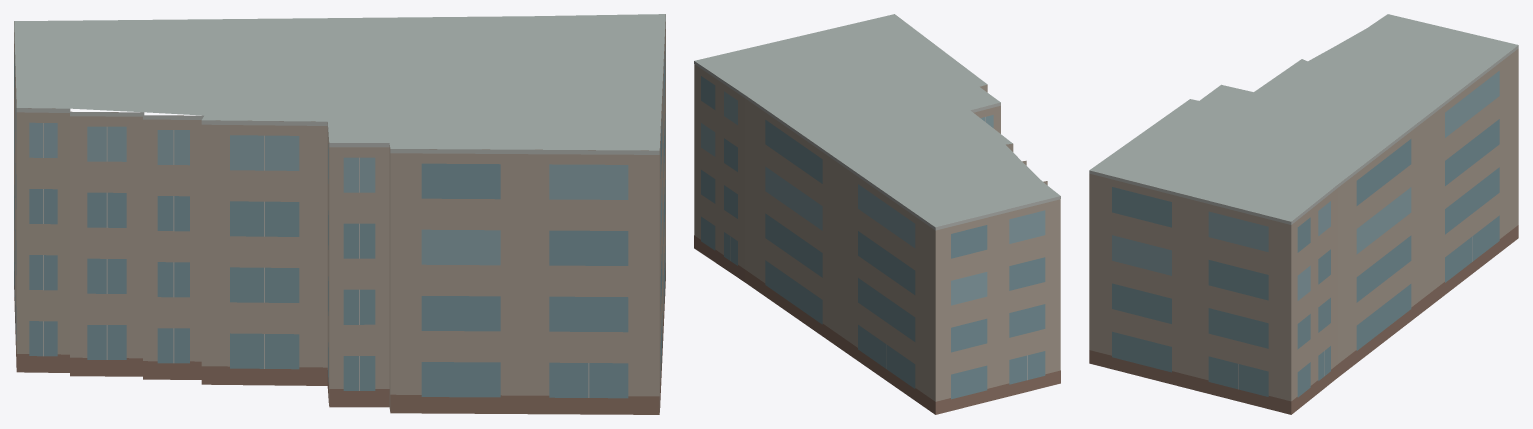
Rendered from survey-upis-32665385.glb.
The picture shows the model from 3 angles, left to right: view 1: azimuth 30°, elevation 25°; view 2: azimuth 150°, elevation 25°; view 3: azimuth 270°, elevation 25°; orthographic projection. The views are drawn at different scales.
Visible parts, largest first — view 1: survey-upis-32665385.tmp; view 2: survey-upis-32665385.tmp; view 3: survey-upis-32665385.tmp.
Part boxes in pixels (box(x1,y1,x2,y2)): survey-upis-32665385.tmp: box(14, 14, 665, 414); survey-upis-32665385.tmp: box(694, 14, 1060, 414); survey-upis-32665385.tmp: box(1089, 14, 1518, 414).
Size of the model in its own units: 33.47 by 14.5 by 29.24.
